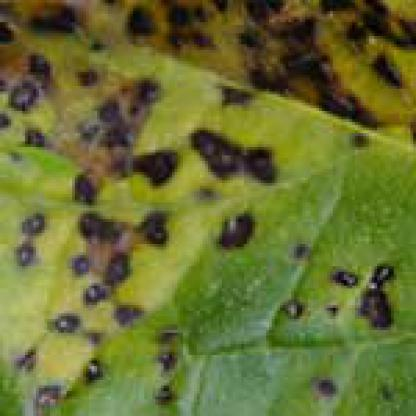tomato septoria leaf spot: (3, 8, 413, 413)
